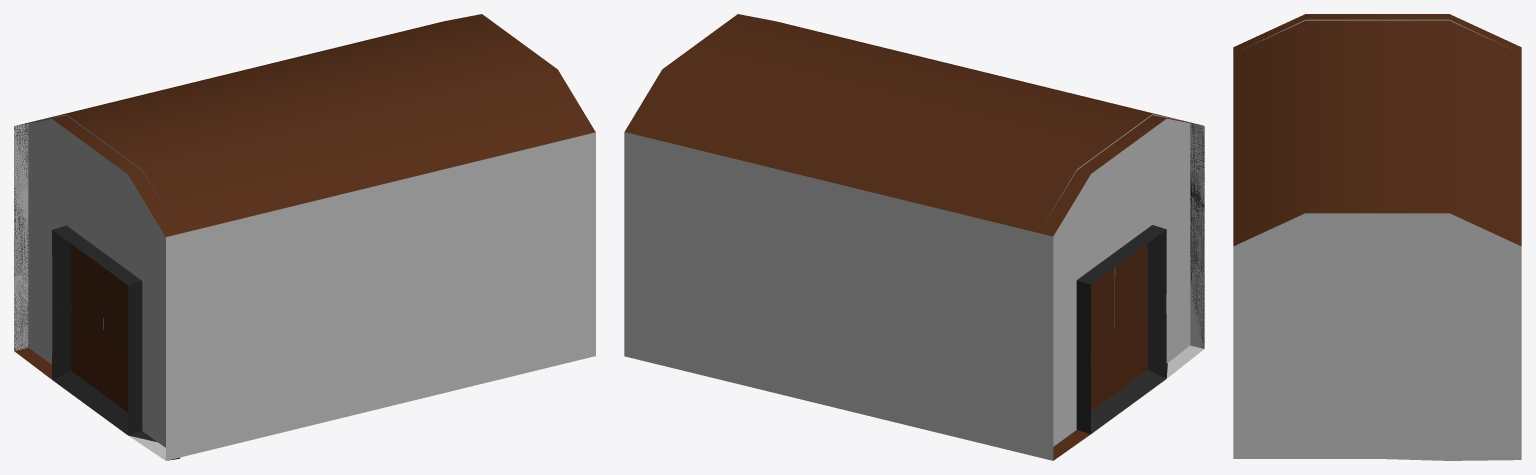
File: Barrack.FBX
The picture shows the model from 3 angles, left to right: view 1: azimuth 30°, elevation 25°; view 2: azimuth 150°, elevation 25°; view 3: azimuth 270°, elevation 25°; orthographic projection. The views are drawn at different scales.
Visible parts, largest first — view 1: House; view 2: House; view 3: House.
Boxes of the visible parts, x1=… form: House: x1=14, y1=14, x2=595, y2=460; House: x1=624, y1=14, x2=1204, y2=460; House: x1=1233, y1=14, x2=1521, y2=460.
Size of the model in its own units: 90 by 52.4 by 55.
